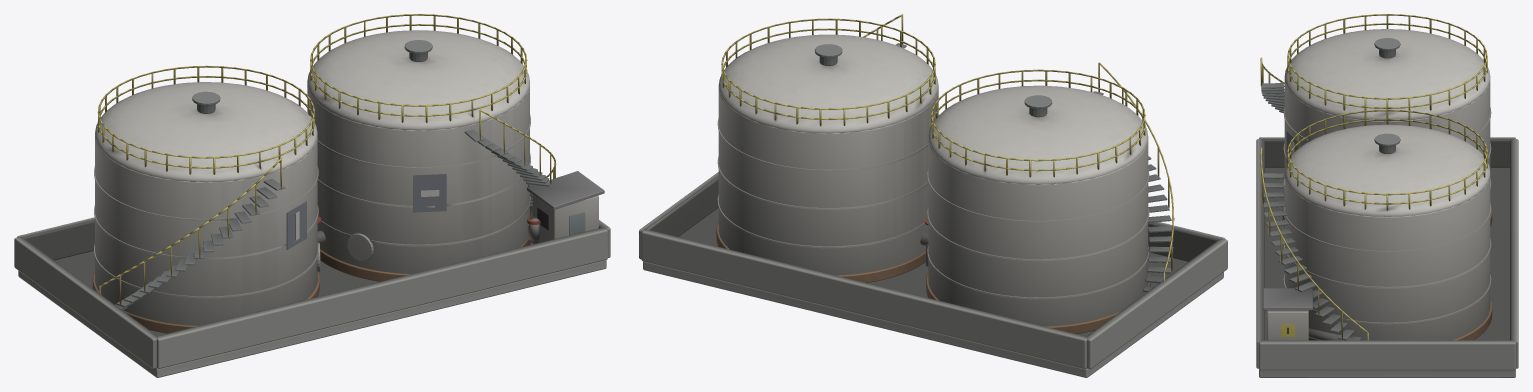
The model's file is fuel_tanks.glb.
The picture shows the model from 3 angles, left to right: view 1: azimuth 30°, elevation 25°; view 2: azimuth 150°, elevation 25°; view 3: azimuth 270°, elevation 25°; orthographic projection. The views are drawn at different scales.
Parts seen in each view (by area): view 1: model; view 2: model; view 3: model.
Boxes of the visible parts, x1=… form: model: x1=14, y1=14, x2=610, y2=377; model: x1=639, y1=14, x2=1227, y2=377; model: x1=1256, y1=14, x2=1518, y2=377.
Bounding box in the file's own units: 14.25 × 5.99 × 7.65.
